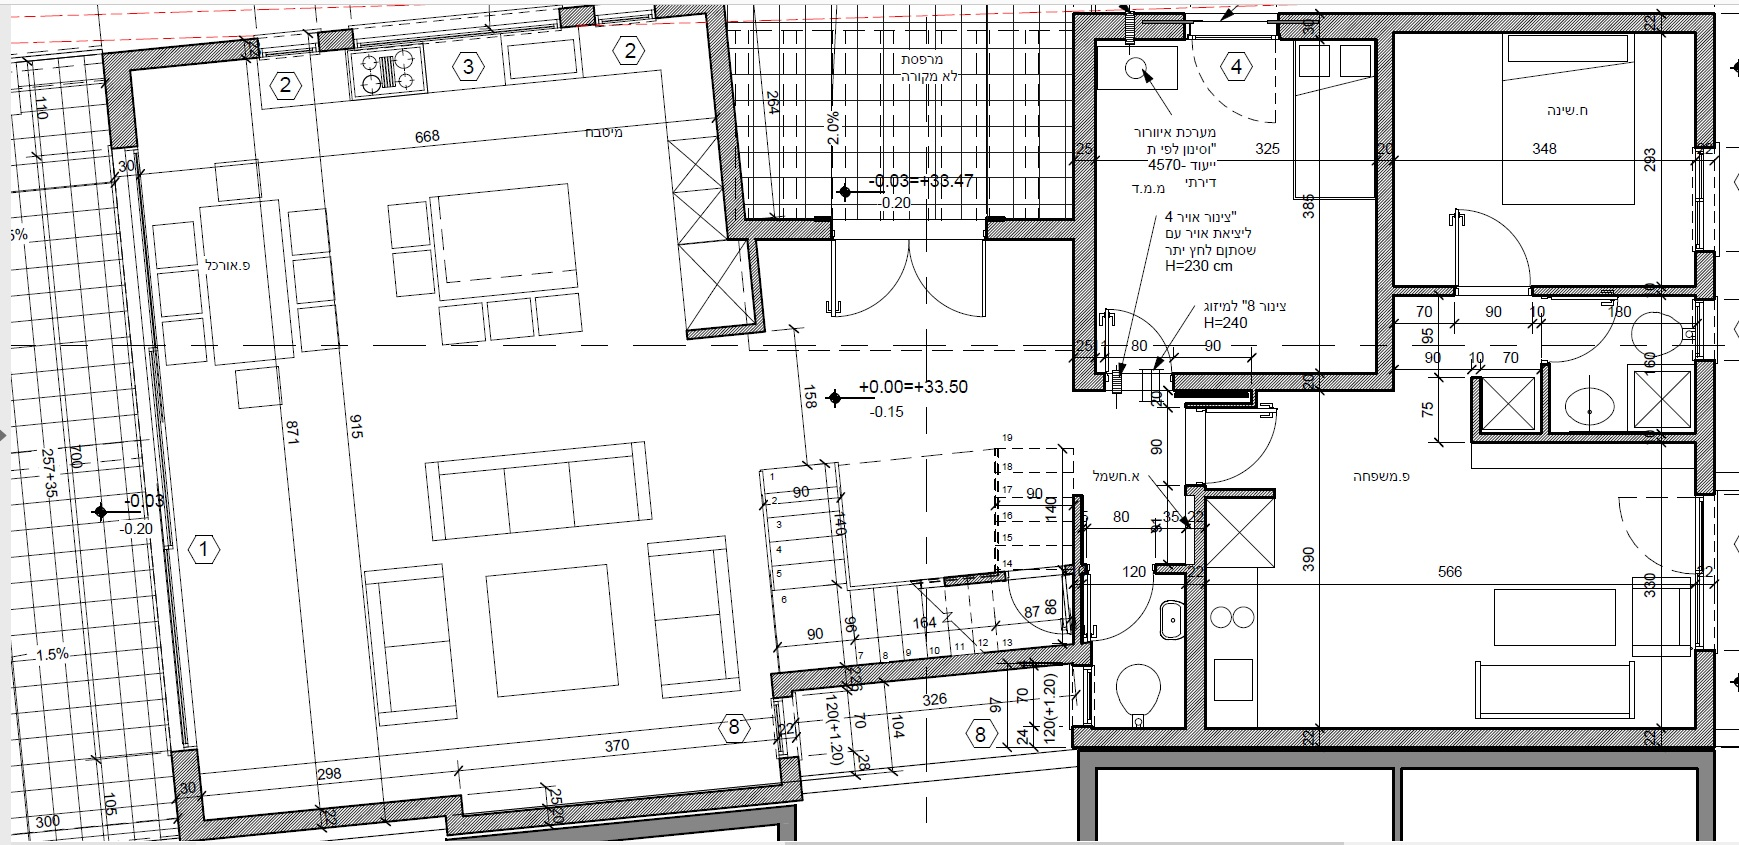door: (817, 242, 998, 330), (1181, 52, 1291, 147), (1451, 198, 1540, 281), (1604, 493, 1694, 576)
wall: (1075, 730, 1717, 745), (1072, 754, 1715, 768), (1278, 16, 1716, 34), (1376, 14, 1395, 395), (1075, 13, 1094, 394), (1174, 374, 1394, 390), (1694, 362, 1716, 493)
